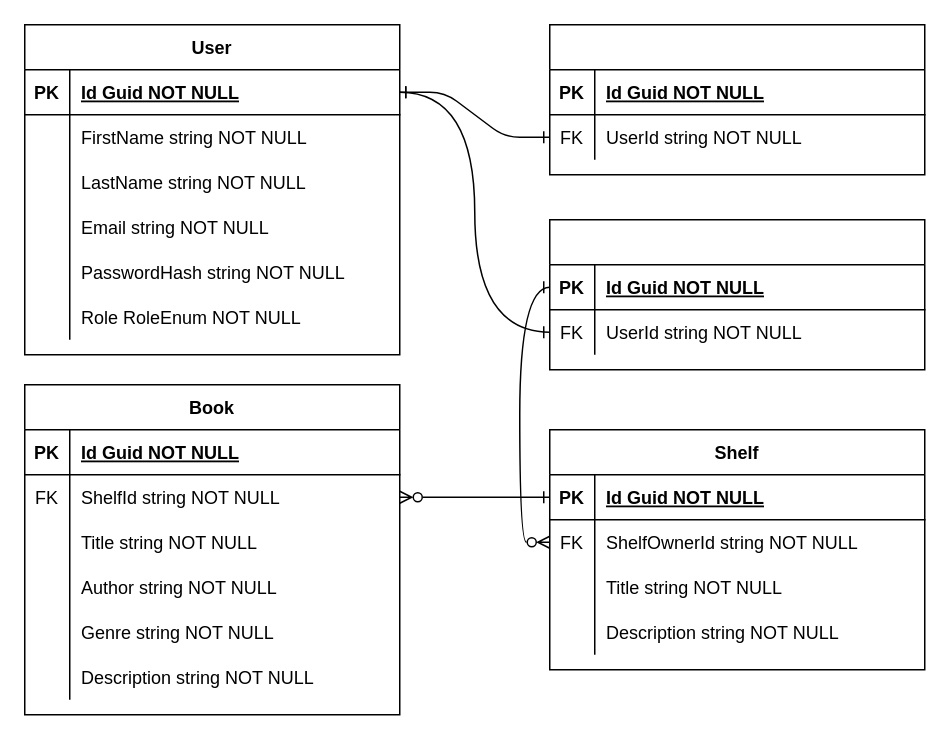
The diagram is 950 pixels wide and 740 high, and some of its shapes have lost their labels. The shapes that lost their labels are listed below. From the top down, each one's box as (x1, y1, x2, y2) in pixels, then its label:
(548, 23, 925, 175): Admin
(548, 218, 925, 370): ShelfOwner
